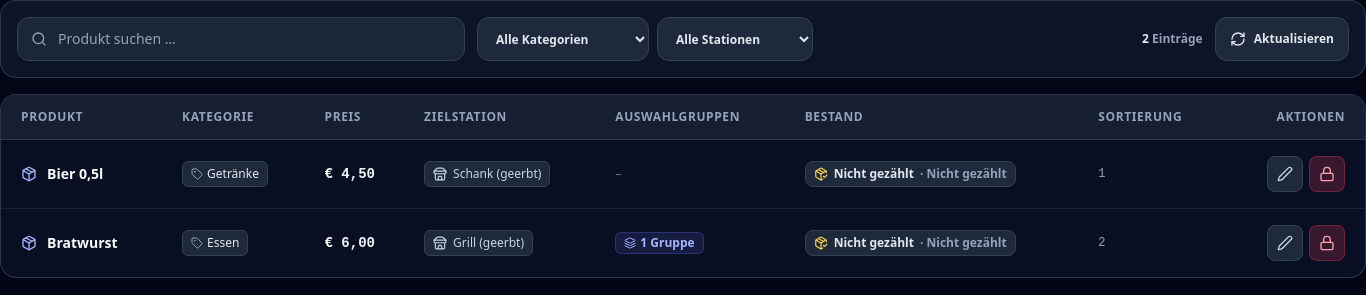
it: AdminProductsView › rendert Produkte formatiert in Euro mit Kategorie und Optionen
Check: the text "Bier 0,5l" is shown, box [47,164,103,184]
Check: the text "€ 4,50" is shown, box [324,166,375,182]
Select "Kategorie: Getränke" in the 1st dropdown named "Kategorie filtern": [563, 39] box [477,17,649,61]
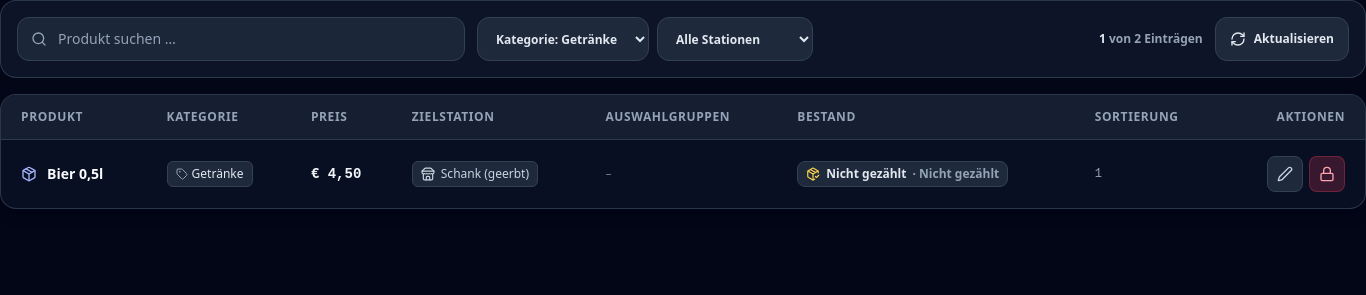
Check: the text "Bier 0,5l" is shown, box [47,164,103,184]
Check: the text "Bratwurst" is gone
